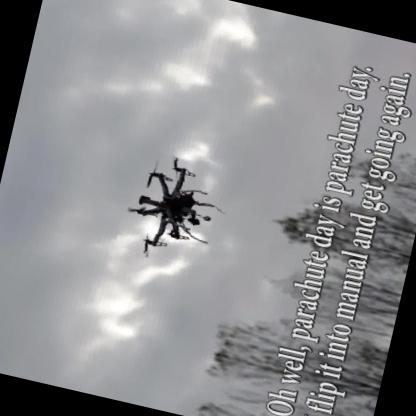drone: (115, 147, 240, 272)
